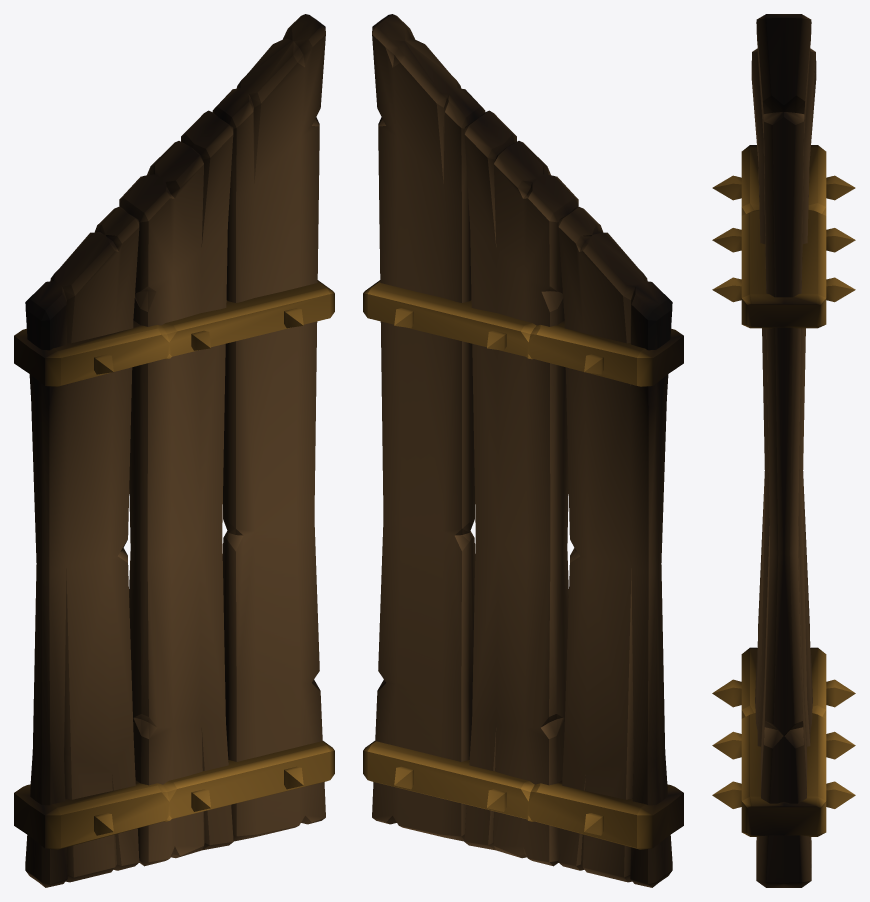
The model's file is obj_woodenDoor_left.FBX.
3 views of the same model, side by side, from view 1: azimuth 30°, elevation 25°; view 2: azimuth 150°, elevation 25°; view 3: azimuth 270°, elevation 25° (orthographic). The views are drawn at different scales.
Parts seen in each view (by area): view 1: obj_woodenDoor_left; view 2: obj_woodenDoor_left; view 3: obj_woodenDoor_left.
Part boxes in pixels (x1,y1,x2,y2): obj_woodenDoor_left: (14, 14, 334, 887); obj_woodenDoor_left: (363, 14, 683, 887); obj_woodenDoor_left: (712, 14, 855, 887).
Size of the model in its own units: 1.78 by 4.68 by 0.6989.
